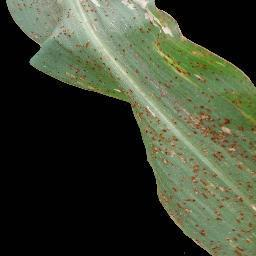Corn_Common_Rust: (141, 41, 256, 255), (5, 0, 185, 41), (67, 41, 142, 95), (112, 94, 141, 133)
